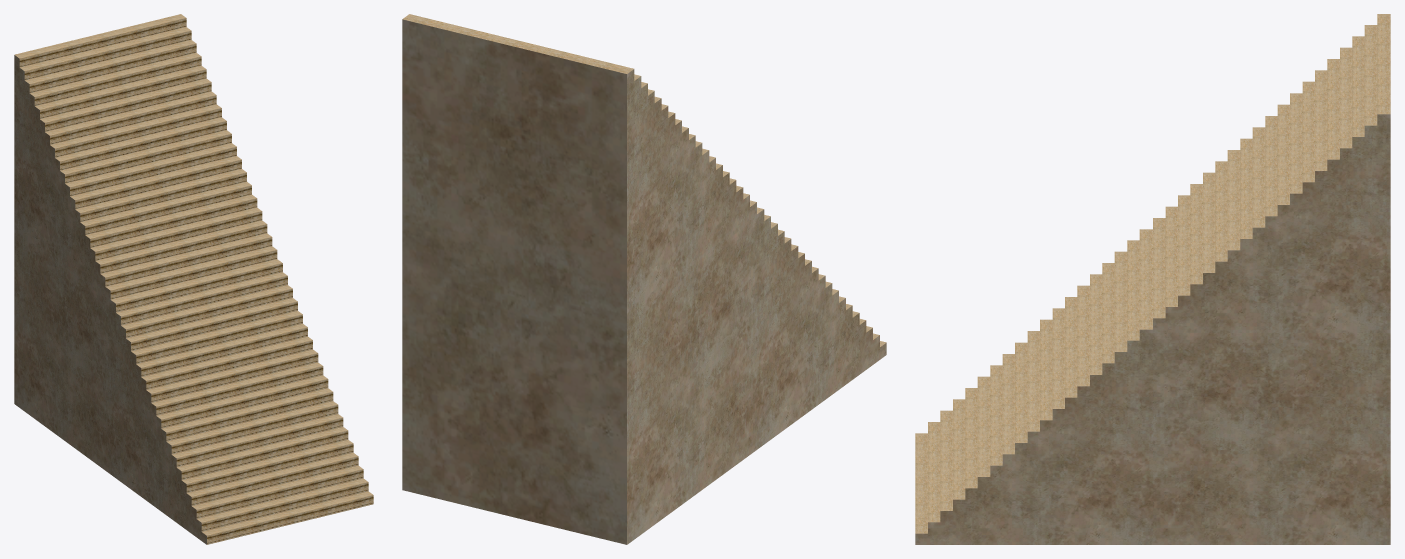
Rendered from thm_tato_imprv_stair_sml_s02_l0.fbx.
3 renders of one model, left to right at view 1: azimuth 30°, elevation 25°; view 2: azimuth 150°, elevation 25°; view 3: azimuth 270°, elevation 25°, orthographic. The views are drawn at different scales.
Visible parts, largest first — view 1: mesh_node; view 2: mesh_node; view 3: mesh_node.
Part boxes in pixels (x1,y1,x2,y2): mesh_node: (14, 14, 373, 544); mesh_node: (402, 14, 886, 544); mesh_node: (915, 14, 1390, 544).
Size of the model in its own units: 4 by 8 by 8.
